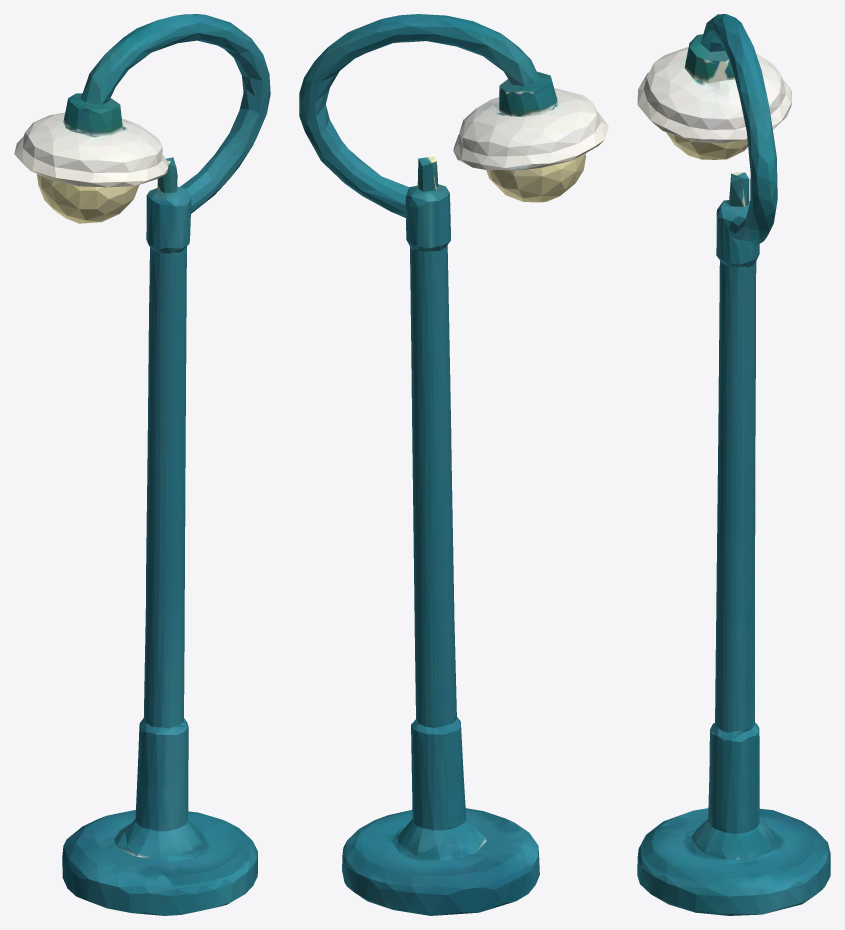
The model's file is lamp.glb.
The picture shows the model from 3 angles, left to right: view 1: azimuth 30°, elevation 25°; view 2: azimuth 150°, elevation 25°; view 3: azimuth 270°, elevation 25°; orthographic projection.
Visible parts, largest first — view 1: figure; view 2: figure; view 3: figure.
Boxes of the visible parts, x1,y1,x2,y2 form: figure: (14,14,270,915); figure: (299,14,608,915); figure: (637,14,830,915).
Bounding box in the file's own units: 0.3289 × 1 × 0.2068.
1 material, 1 textured.
